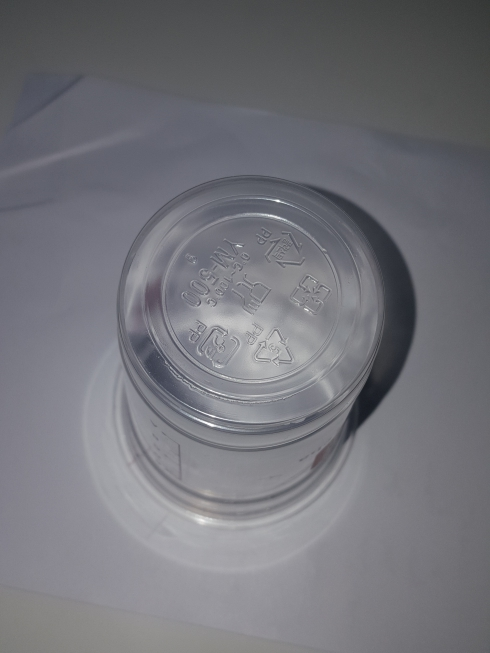recycle: (242, 319, 297, 370)
